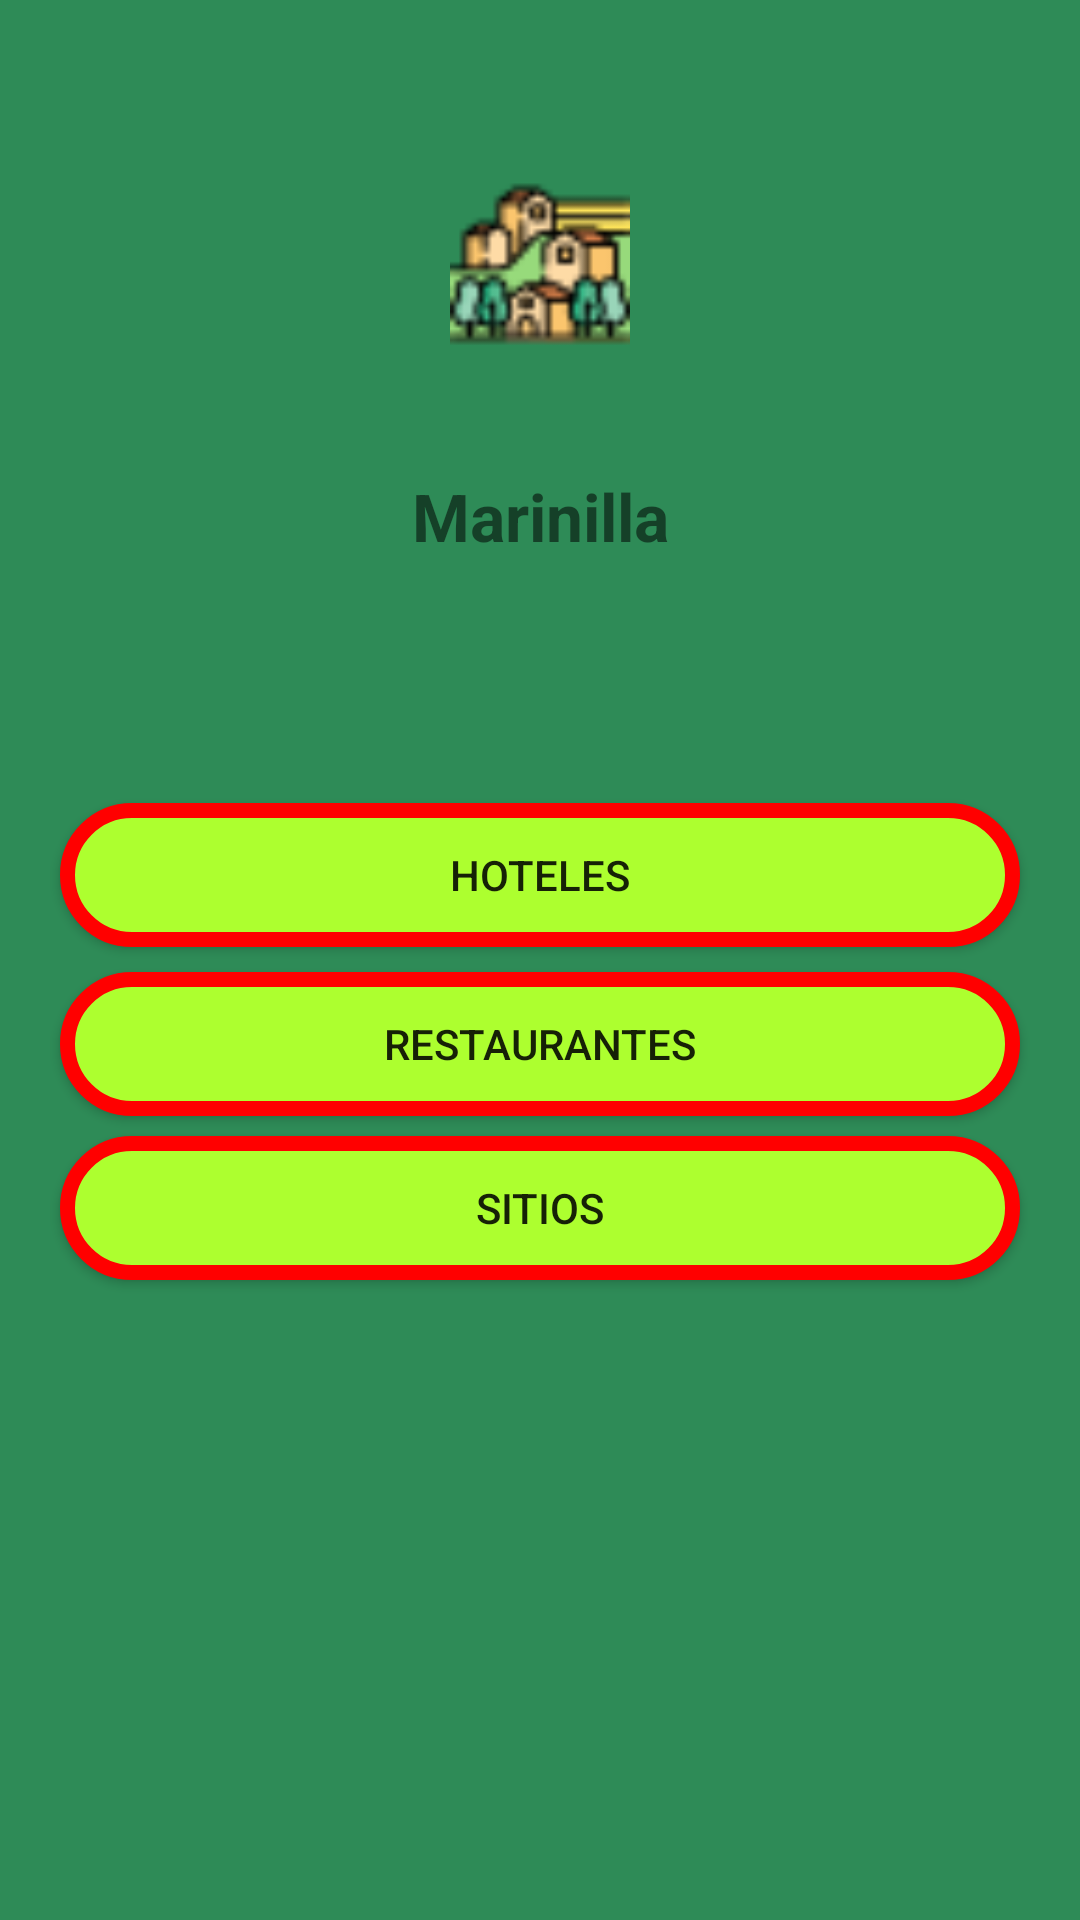

Icons on this 1080px×1920px Android screen, each with its box as (x1, y1, x2, y2):
pueblo: (450, 184, 630, 343)
